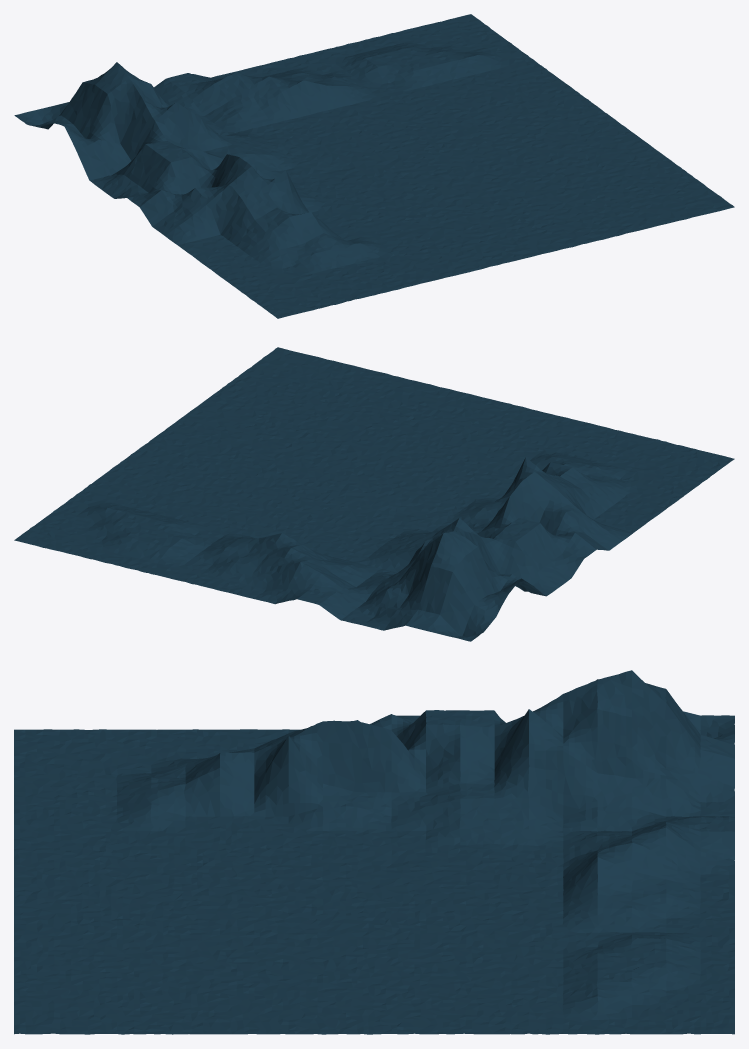
File: LowPolyTerrain.glb
3 views of the same model, one above another, from view 1: azimuth 30°, elevation 25°; view 2: azimuth 150°, elevation 25°; view 3: azimuth 270°, elevation 25° (orthographic). The views are drawn at different scales.
Visible parts, largest first — view 1: Plane; view 2: Plane; view 3: Plane.
Boxes of the visible parts, x1=… form: Plane: x1=14, y1=14, x2=734, y2=318; Plane: x1=14, y1=347, x2=734, y2=641; Plane: x1=14, y1=670, x2=734, y2=1034.
Size of the model in its own units: 200 by 31.94 by 200.
